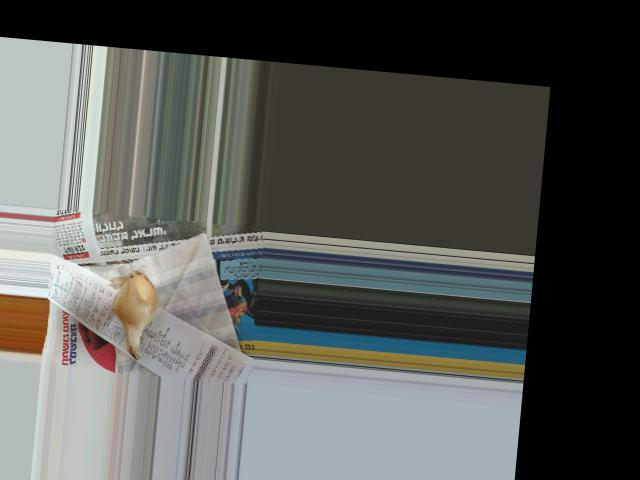onion: (113, 273, 158, 339)
